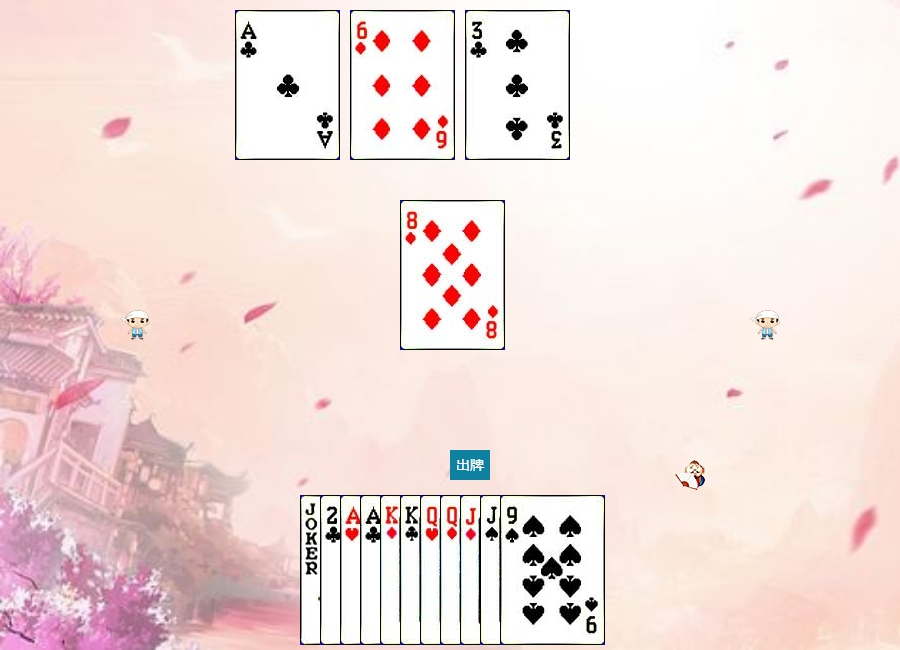11~1: (460, 495, 565, 645)
11~4: (480, 495, 585, 645)
12~1: (440, 495, 545, 645)
12~3: (420, 495, 525, 645)
13~1: (380, 495, 485, 645)
13~2: (400, 495, 505, 645)
14~2: (235, 10, 340, 160), (360, 495, 465, 645)
14~3: (340, 495, 445, 645)
15~2: (320, 495, 425, 645)
17~3: (300, 495, 405, 645)
3~2: (465, 10, 570, 160)
6~1: (350, 10, 455, 160)
8~1: (400, 200, 505, 350)
9~4: (500, 495, 605, 645)
